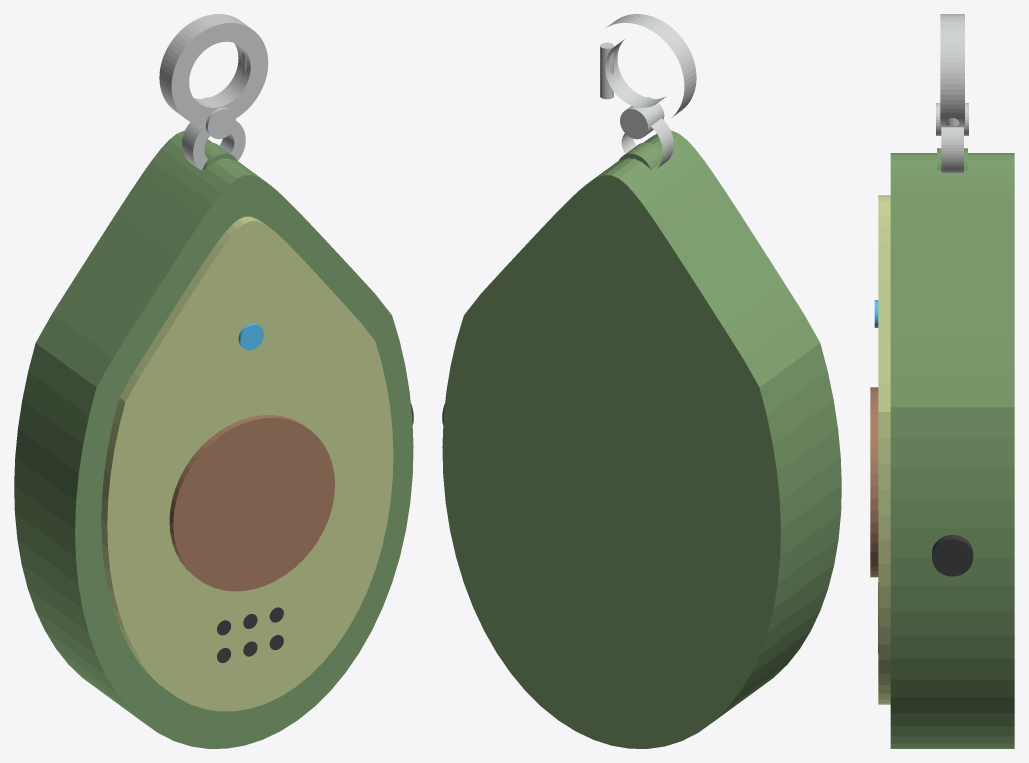
Rendered from sosai_key_3d_model.glb.
3 renders of one model, left to right at view 1: azimuth 30°, elevation 25°; view 2: azimuth 150°, elevation 25°; view 3: azimuth 270°, elevation 25°, orthographic.
Visible parts, largest first — view 1: SOSAI_KEY_part_2, SOSAI_KEY_part_1, SOSAI_KEY_part_4, SOSAI_KEY_part_15, SOSAI_KEY_part_14, SOSAI_KEY_part_17; view 2: SOSAI_KEY_part_1, SOSAI_KEY_part_15, SOSAI_KEY_part_17, SOSAI_KEY_part_14, SOSAI_KEY_part_13; view 3: SOSAI_KEY_part_1, SOSAI_KEY_part_2, SOSAI_KEY_part_15, SOSAI_KEY_part_4, SOSAI_KEY_part_12, SOSAI_KEY_part_14, SOSAI_KEY_part_17.
Part boxes in pixels (box(x1,y1,x2,y2)): SOSAI_KEY_part_2: box(101, 216, 393, 711); SOSAI_KEY_part_1: box(14, 130, 413, 748); SOSAI_KEY_part_4: box(169, 415, 334, 591); SOSAI_KEY_part_15: box(159, 14, 268, 126); SOSAI_KEY_part_14: box(182, 121, 245, 169); SOSAI_KEY_part_17: box(202, 97, 235, 139); SOSAI_KEY_part_1: box(442, 130, 841, 748); SOSAI_KEY_part_15: box(605, 14, 696, 117); SOSAI_KEY_part_17: box(620, 97, 664, 139); SOSAI_KEY_part_14: box(621, 118, 673, 169); SOSAI_KEY_part_13: box(618, 142, 662, 169); SOSAI_KEY_part_1: box(890, 153, 1014, 748); SOSAI_KEY_part_2: box(878, 195, 890, 704); SOSAI_KEY_part_15: box(940, 14, 964, 127); SOSAI_KEY_part_4: box(870, 387, 878, 577); SOSAI_KEY_part_12: box(932, 535, 973, 576); SOSAI_KEY_part_14: box(941, 127, 963, 172); SOSAI_KEY_part_17: box(936, 103, 968, 135).
Bounding box in the file's own units: 40.85 × 76.5 × 13.95.
